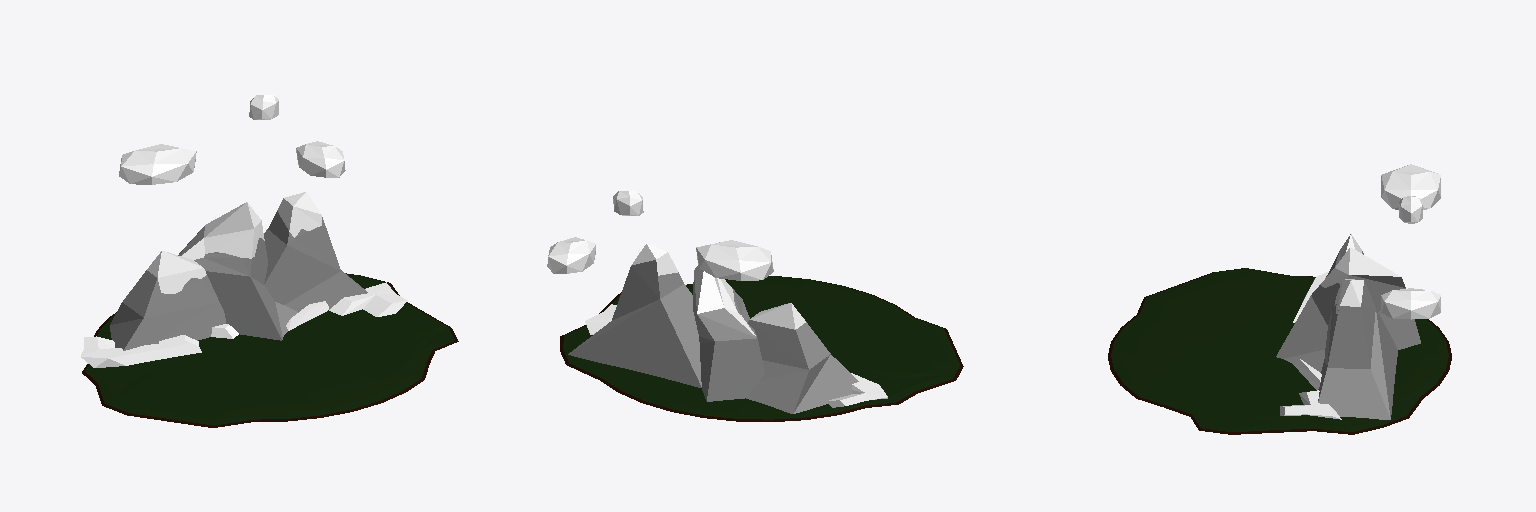
File: Mountain_1235.obj
The picture shows the model from 3 angles: view 1: azimuth 30°, elevation 25°; view 2: azimuth 150°, elevation 25°; view 3: azimuth 270°, elevation 25°; orthographic projection.
Visible parts, largest first — view 1: Sphere001; view 2: Sphere001; view 3: Sphere001.
Boxes of the visible parts, <box> form: Sphere001: <box>81,95,458,427</box>; Sphere001: <box>547,191,963,421</box>; Sphere001: <box>1108,164,1451,434</box>.
Size of the model in its own units: 206 by 110 by 179.